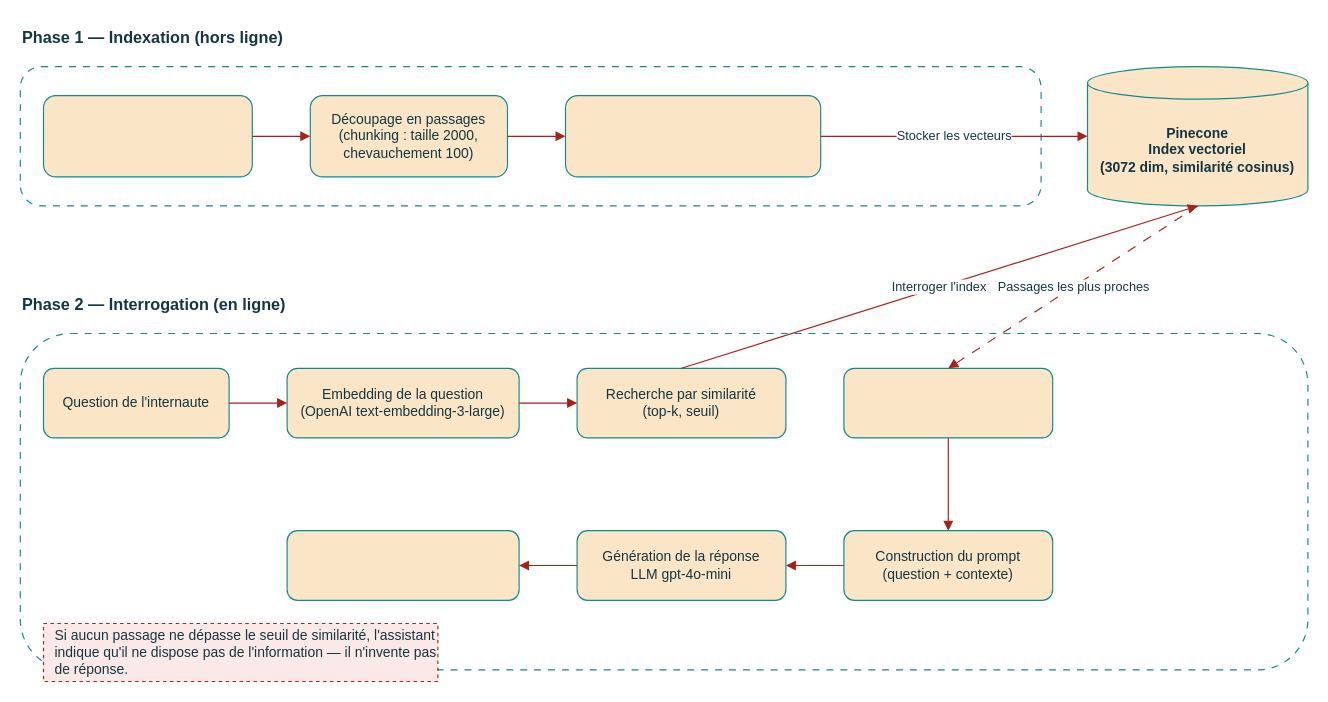
Some shapes in this 1328 by 702 pixel diagram are drawn without their labels. Each missing label, with the centre of its shape:
"Contenu du portail (nœuds Drupal : secteurs, services, actualités, FAQ...)" goes at [147,136].
"Embedding OpenAI text-embedding-3-large (vecteurs 3072 dimensions)" goes at [692,136].
"Passages pertinents (contexte récupéré)" goes at [948,402].
"Réponse ancrée dans le contenu affichée dans le chatbot" goes at [402,565].
